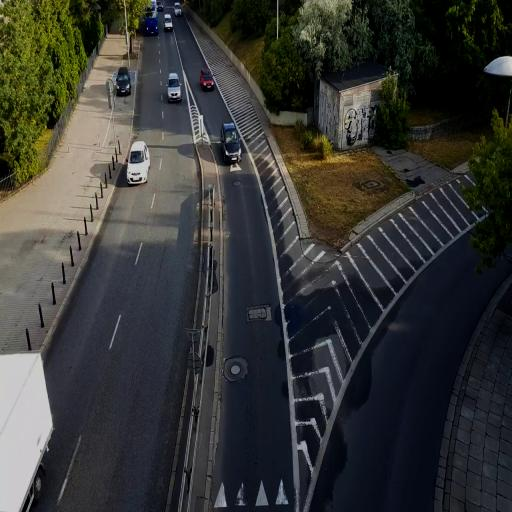vehicle: (126, 140, 150, 185), (222, 122, 242, 164), (167, 71, 182, 103), (114, 68, 131, 96), (200, 68, 214, 92), (145, 15, 159, 35), (164, 14, 173, 32)
